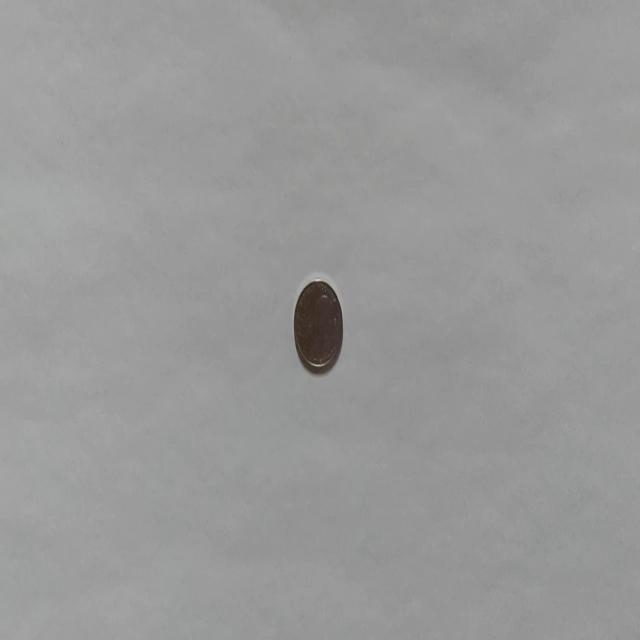seribu rupiah koin: (292, 276, 344, 374)
